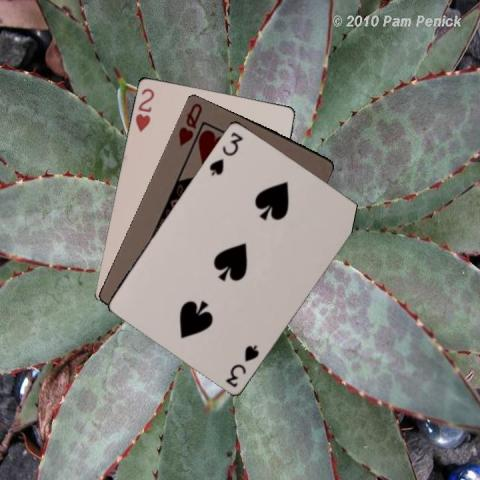2h: (132, 84, 155, 132)
3s: (206, 128, 245, 176), (222, 341, 261, 389)
Qh: (175, 100, 203, 147)
